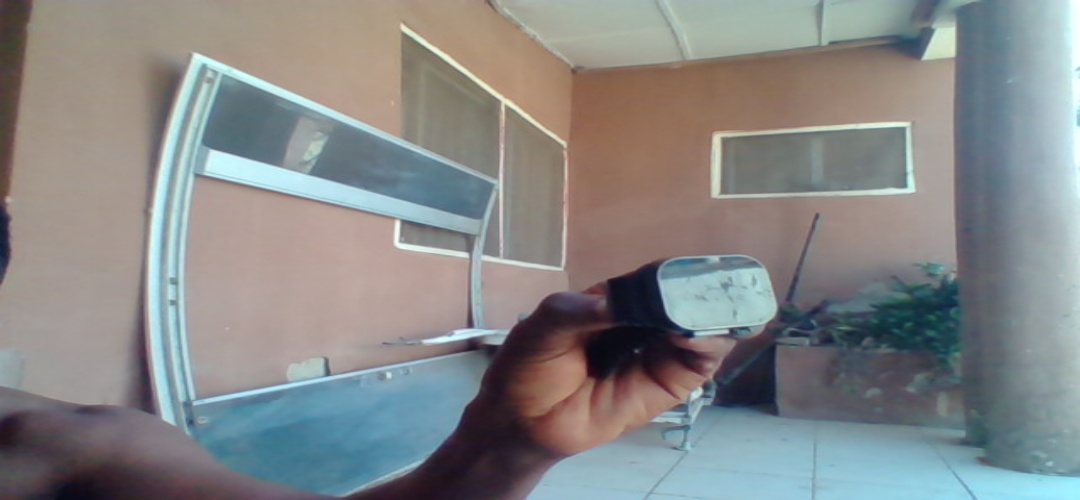smart_watch: (602, 254, 779, 339)
